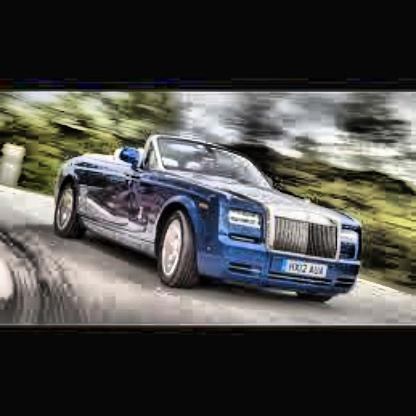Rolls-Royce Phantom Drophead Coupe Convertible 2012: (55, 136, 363, 304)
